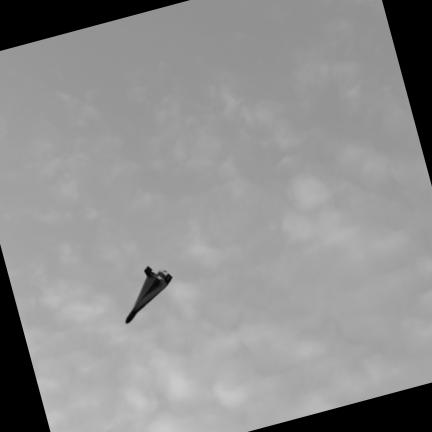Shahed: (125, 265, 172, 323)
